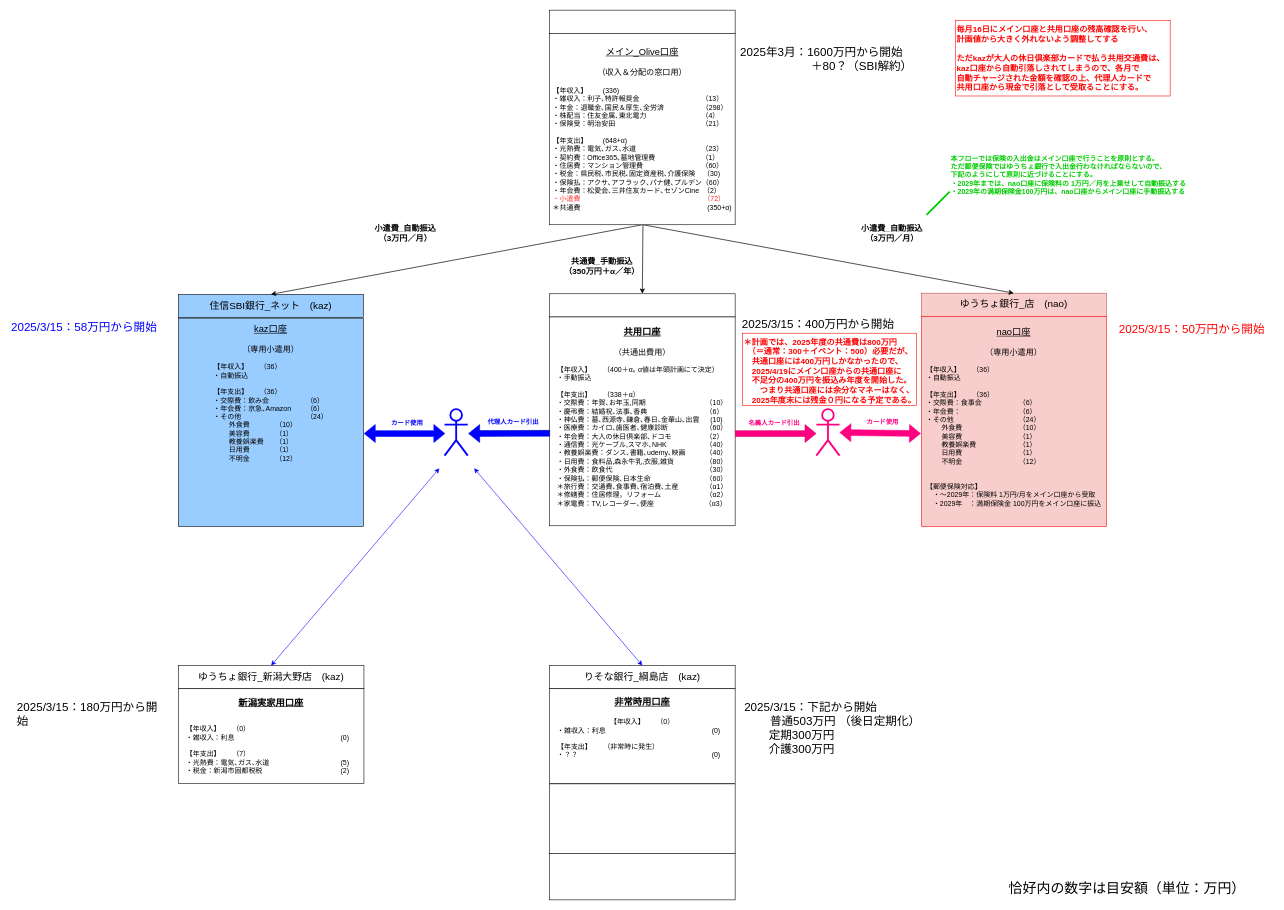
Some shapes in this 1284 by 910 pixel diagram are drawn without their labels. Each missing label, with the box of its shape:
( 定期300 プール） 【年収入】 （0） ・雑収入：利息 (0) 【年支出】 （非常時に発生） ・？？ (0): (549, 783, 735, 853)
(プルデンシャル介護保険 ） 2025/2/10 300入金済（kaz分） 2025//9/? 300入金予定（nao分）: (549, 853, 735, 900)
kaz: (443, 408, 468, 456)
nao: (815, 408, 840, 456)
三井住友銀行_八景店 （kaz): (549, 10, 735, 33)
三井住友銀行_福岡店 (nao): (549, 293, 735, 317)
